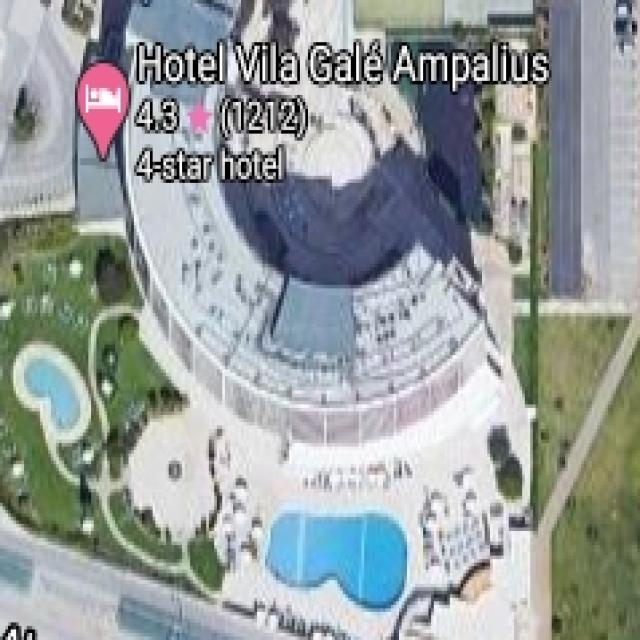pool: (260, 499, 413, 616), (13, 340, 90, 441)
